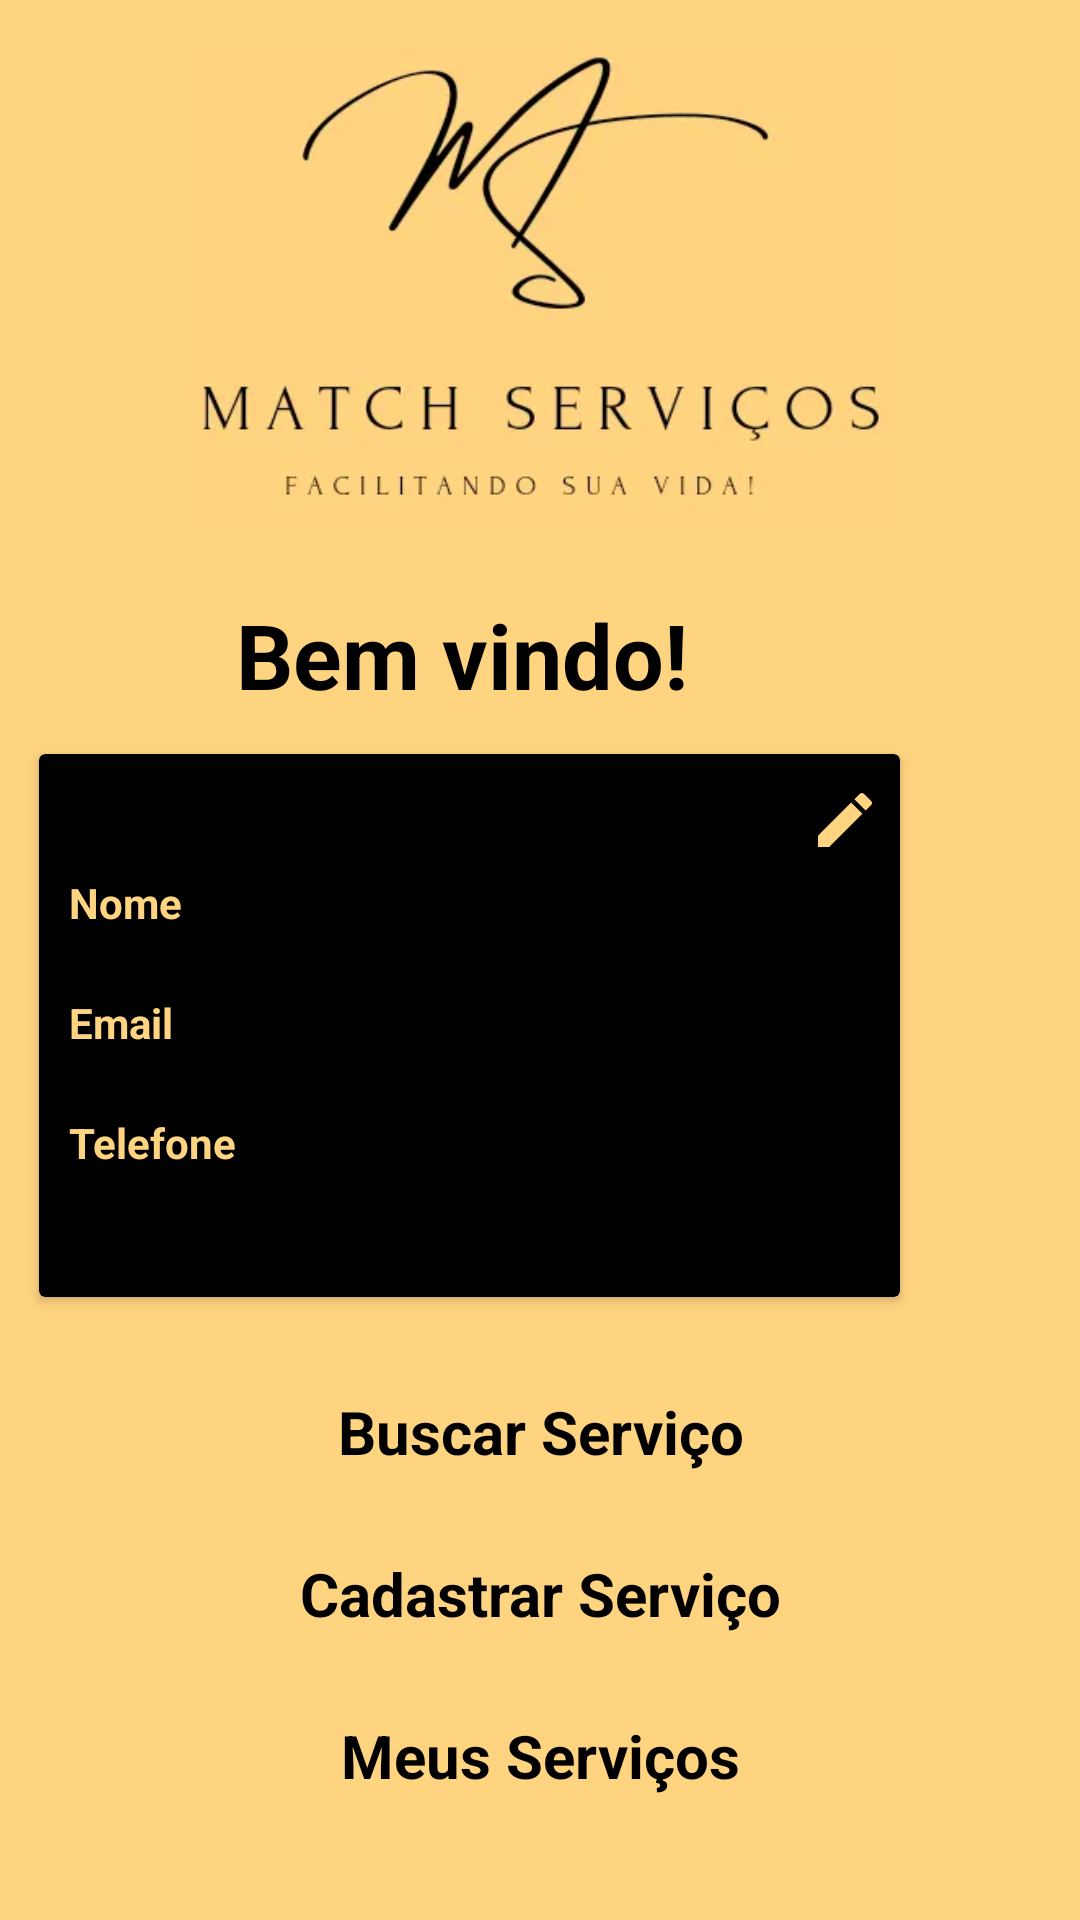

Icon bounding boxes for this 1080px×1920px phone screenshot, format (x1, y1, x2, y2):
edit: (818, 793, 872, 847)
